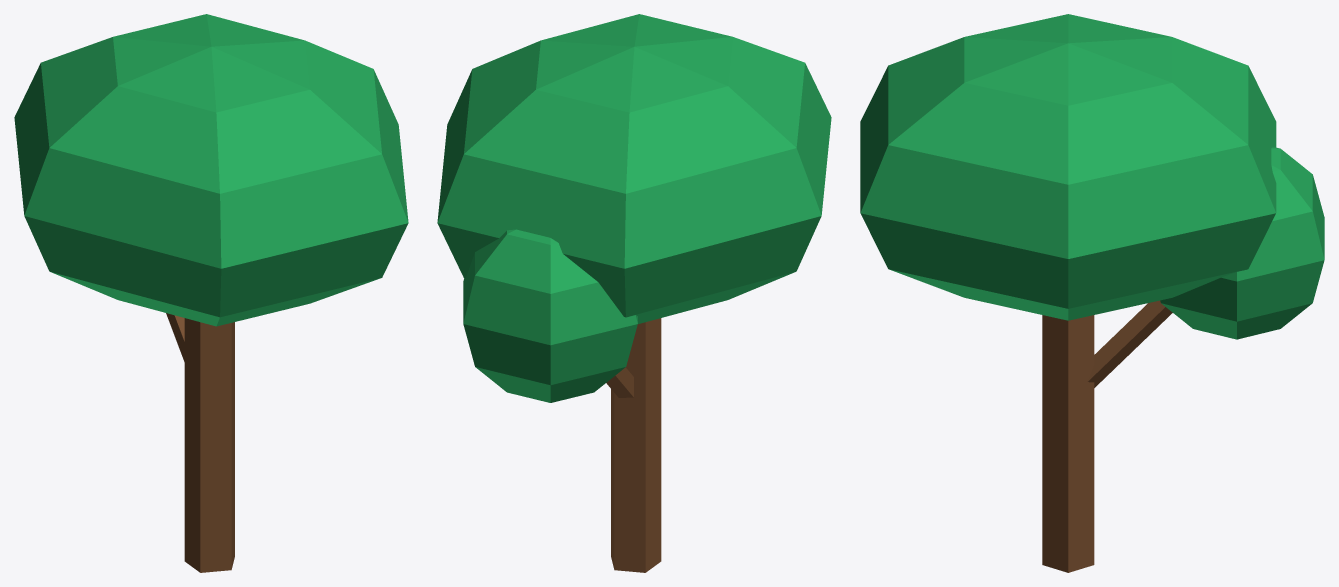
Rendered from geo_Tree_04.fbx.
3 renders of one model, left to right at view 1: azimuth 30°, elevation 25°; view 2: azimuth 150°, elevation 25°; view 3: azimuth 270°, elevation 25°, orthographic.
Parts seen in each view (by area): view 1: geo_TreeTop_01, geo_treeTrunk_01; view 2: geo_TreeTop_01, geo_TreeTop_04, geo_treeTrunk_01, geo_treeBranch_02; view 3: geo_TreeTop_01, geo_TreeTop_04, geo_treeTrunk_01, geo_treeBranch_02.
Part boxes in pixels (x1,y1,x2,y2): geo_TreeTop_01: (14,14,408,326); geo_treeTrunk_01: (184,318,234,572); geo_TreeTop_01: (437,14,831,323); geo_TreeTop_04: (463,229,637,402); geo_treeTrunk_01: (611,318,661,572); geo_treeBranch_02: (606,367,633,397); geo_TreeTop_01: (860,14,1276,320); geo_TreeTop_04: (1160,147,1324,339); geo_treeTrunk_01: (1042,315,1094,572); geo_treeBranch_02: (1087,300,1172,387).
Bounding box in the file's own units: 140 × 184 × 150.
